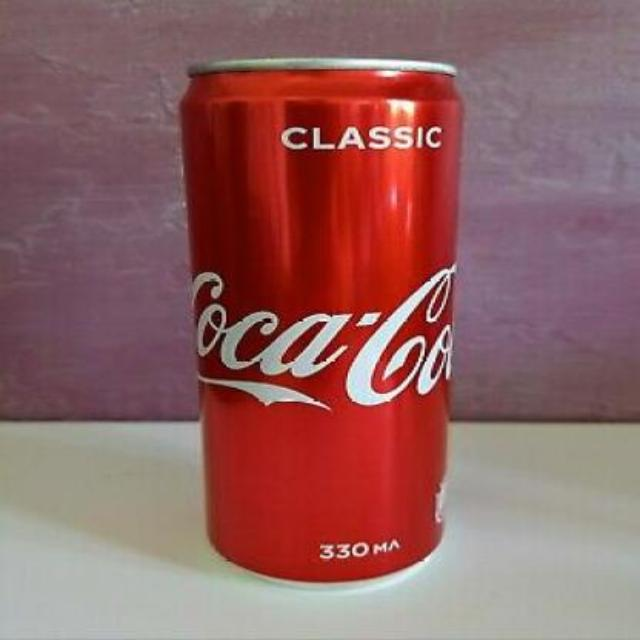metal: (180, 57, 458, 578)
